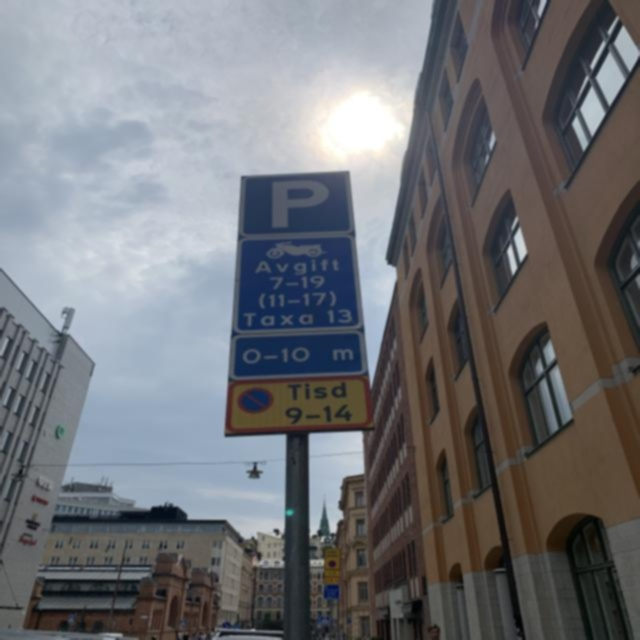P-skylt: (235, 170, 358, 236)
